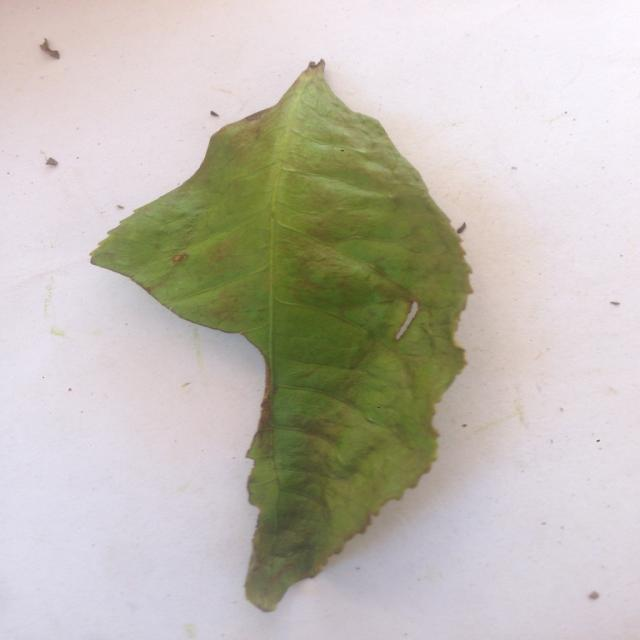Brown Blight: (95, 51, 473, 610)
